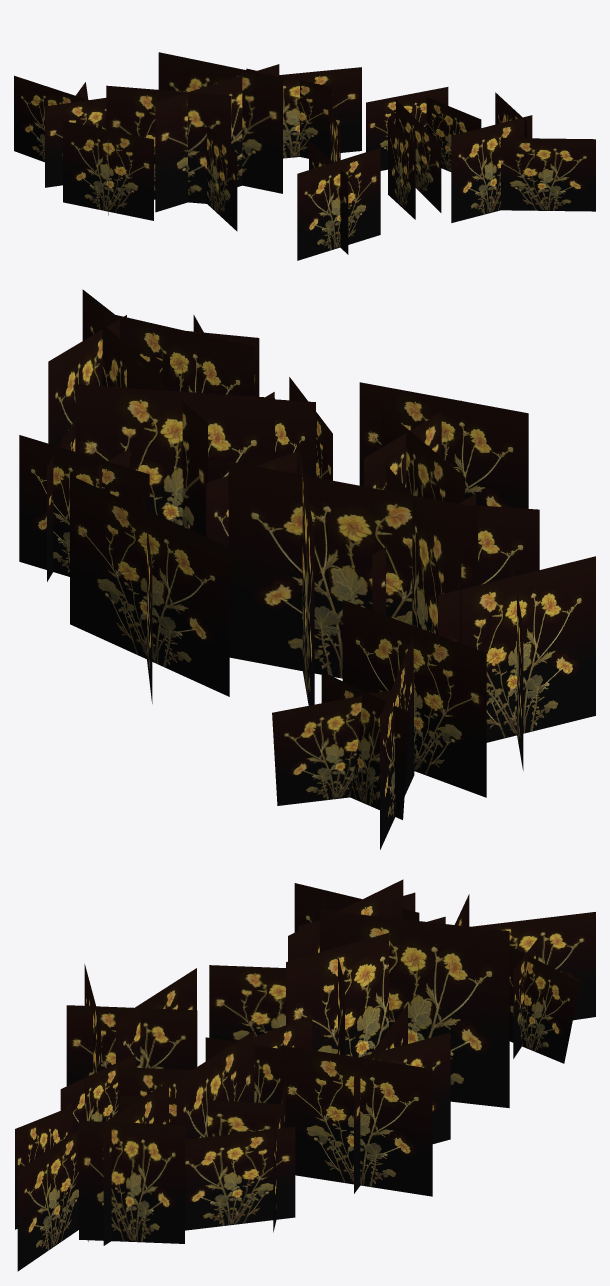
Rendered from wm_灌木野花11.fbx.
3 views of the same model, one above another, from view 1: azimuth 30°, elevation 25°; view 2: azimuth 150°, elevation 25°; view 3: azimuth 270°, elevation 25° (orthographic). The views are drawn at different scales.
Parts seen in each view (by area): view 1: wm_灌木野花11; view 2: wm_灌木野花11; view 3: wm_灌木野花11.
Boxes of the visible parts, left/top/right/bottom form: wm_灌木野花11: left=14, top=52, right=595, bottom=260; wm_灌木野花11: left=19, top=289, right=595, bottom=849; wm_灌木野花11: left=15, top=879, right=595, bottom=1271.
Bounding box in the file's own units: 291 × 90.52 × 270.
